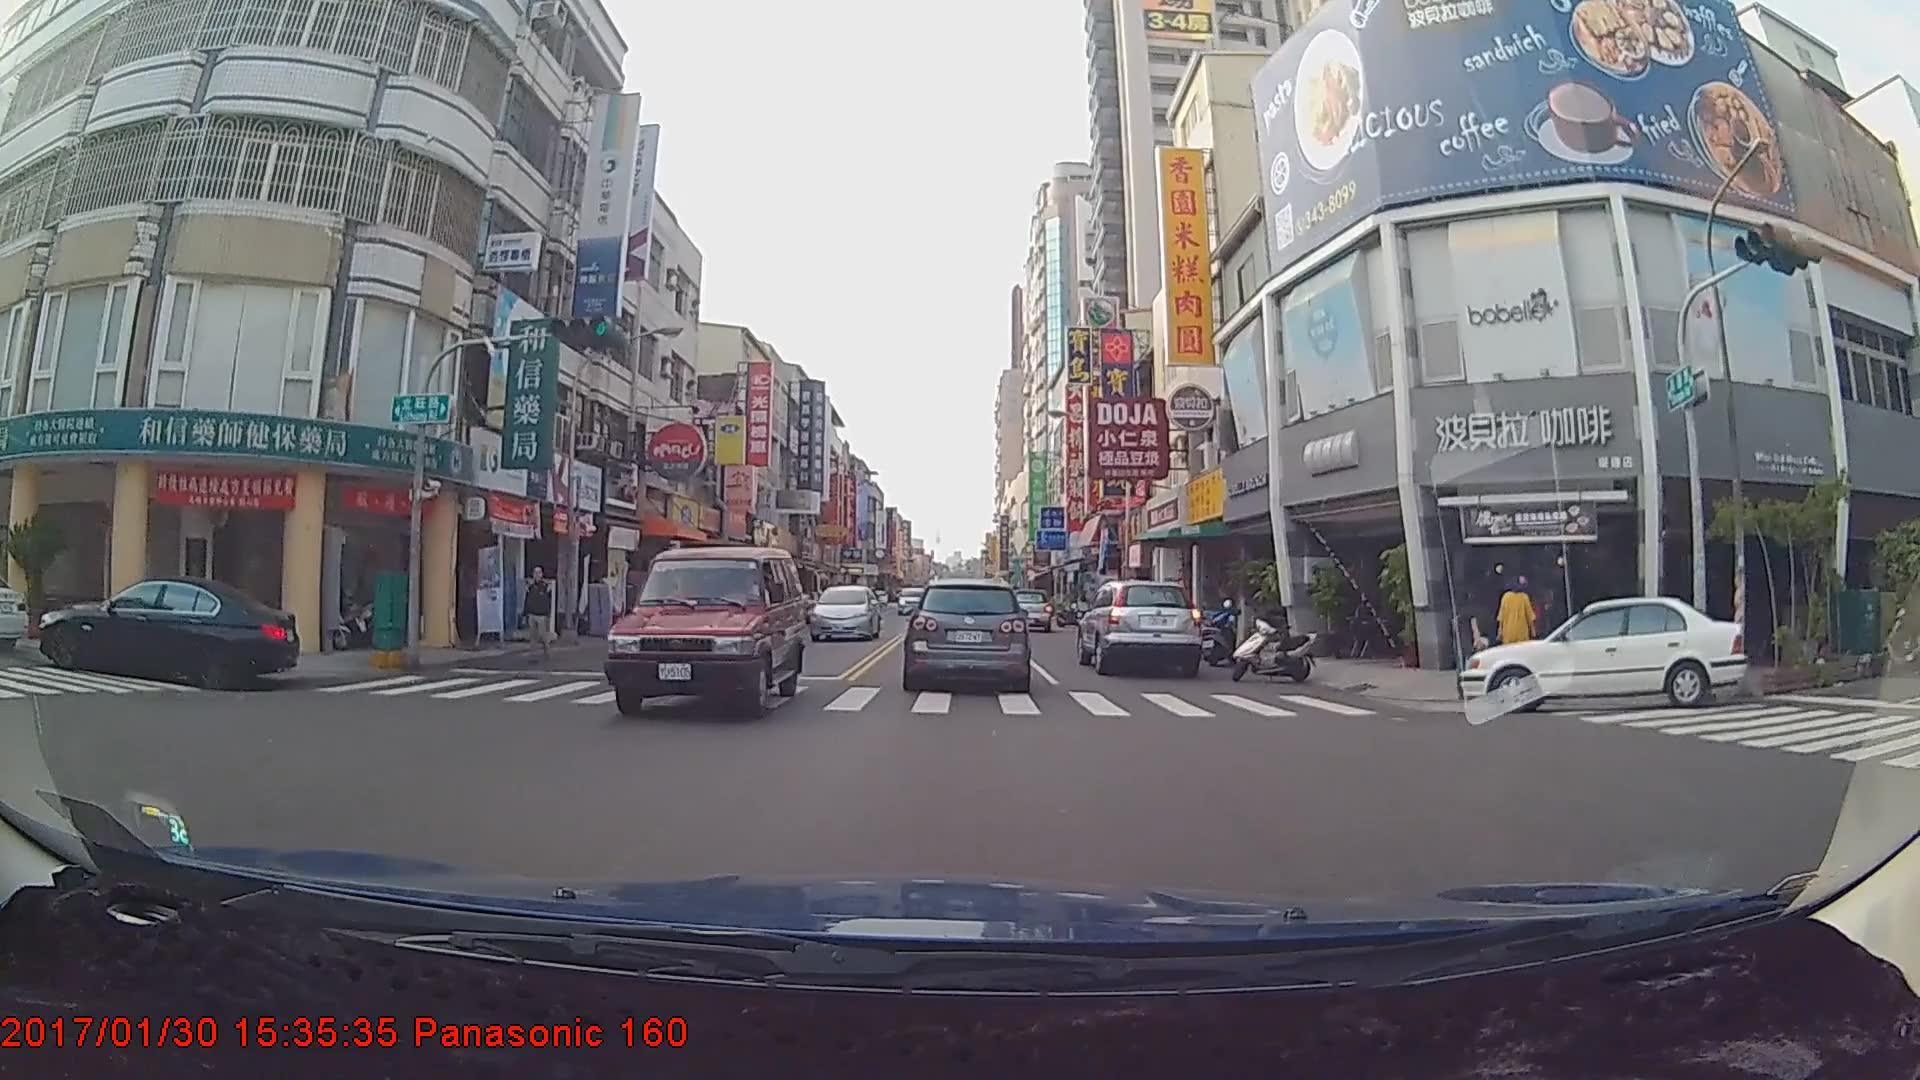pedestrian: (1495, 572, 1537, 670), (1449, 588, 1484, 704), (522, 565, 556, 666)
vehicle: (600, 545, 809, 719), (1459, 593, 1752, 712), (35, 571, 298, 689), (907, 580, 1025, 692), (1073, 577, 1202, 678), (807, 584, 880, 641), (1005, 587, 1051, 631), (895, 583, 930, 614)
